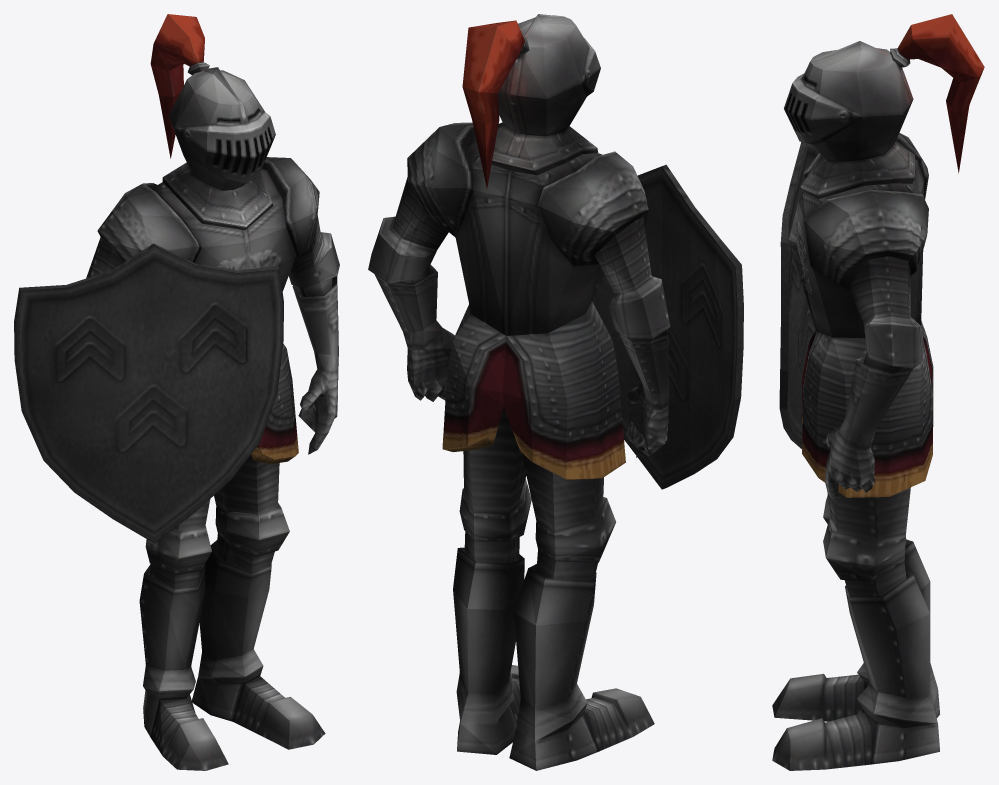
File: Suit of Armour N110818.obj
3 views of the same model, side by side, from view 1: azimuth 30°, elevation 25°; view 2: azimuth 150°, elevation 25°; view 3: azimuth 270°, elevation 25° (orthographic). The views are drawn at different scales.
Visible parts, largest first — view 1: Armour, Shield; view 2: Armour, Shield; view 3: Armour, Shield.
Boxes of the visible parts, bbox=[...] form: Armour: bbox=[86, 14, 339, 770]; Shield: bbox=[14, 243, 283, 543]; Armour: bbox=[368, 14, 670, 770]; Shield: bbox=[592, 164, 743, 489]; Armour: bbox=[772, 14, 984, 770]; Shield: bbox=[779, 142, 818, 448].
Size of the model in its own units: 28.58 by 55.87 by 15.03.
